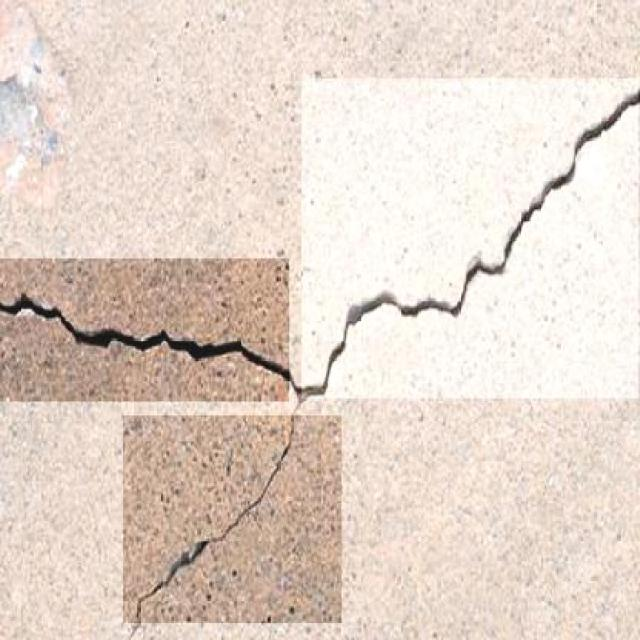Crack: (353, 90, 636, 380), (0, 277, 340, 428), (110, 437, 352, 640)
